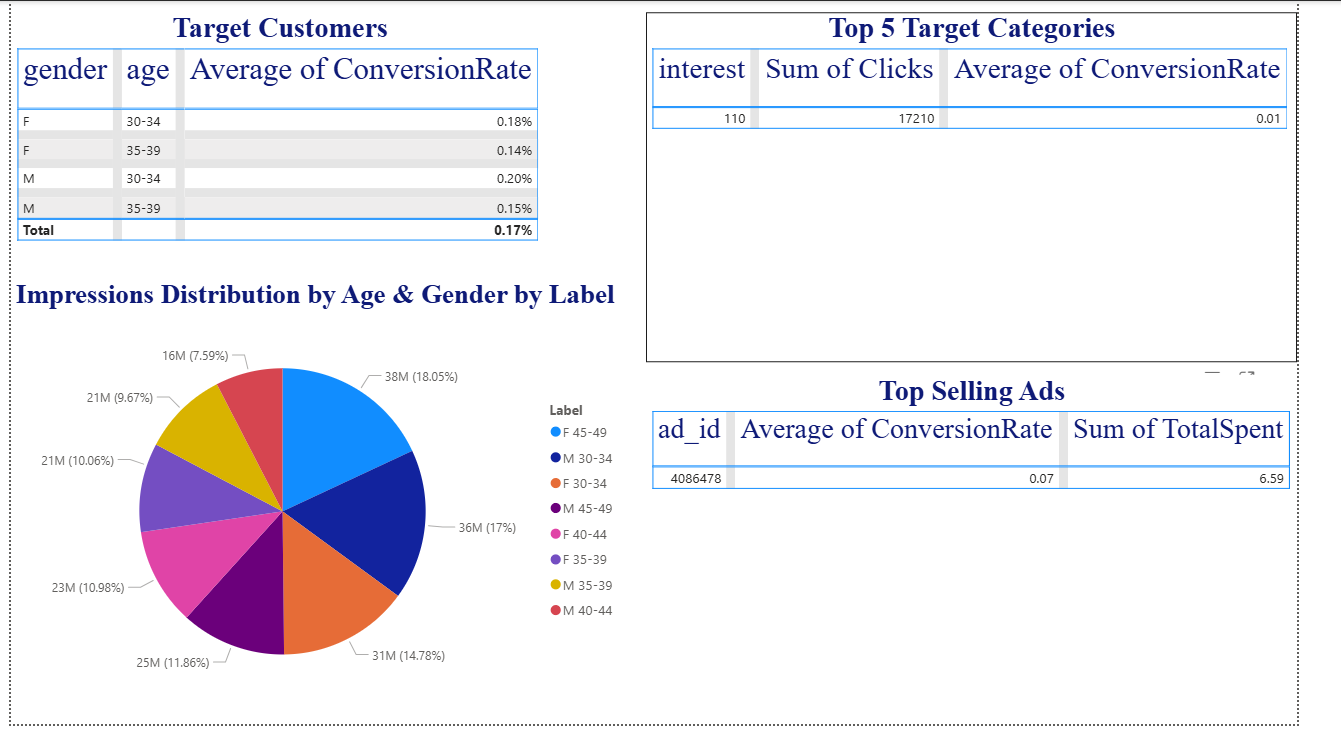

Layout of this report page (visuals, bound fields, positions):
{"tool":"powerbi","page":{"name":"Page 2","canvas":[1280,720],"ordinal":1},"visuals":[{"type":"tableEx","title":"Target Customers","fields":{"Values":["TopTargetCustomers.gender","TopTargetCustomers.age","Avg(TopTargetCustomers.AvgConversionRate)"]},"box":[0,11.4,535.7,264.3],"z":0},{"type":"tableEx","title":"Top 5 Target Categories","fields":{"Values":["Sum(Top5TargetCategories.interest)","Sum(Top5TargetCategories.Clicks)","Sum(Top5TargetCategories.AvgConversionRate)"]},"box":[631.4,11.4,648.6,348.6],"z":1000},{"type":"tableEx","title":"Top Selling Ads","fields":{"Values":["Sum(TopSellingAds.ad_id)","Avg(TopSellingAds.ConversionRate)","Sum(TopSellingAds.TotalSpent)"]},"box":[631.4,371.4,648.6,338.6],"z":2000},{"type":"pieChart","fields":{"Category":["ImpressionPieData.Label"],"Y":["Sum(ImpressionPieData.Impressions)"]},"box":[0,275.7,612.9,434.3],"z":3000}]}

Visuals, with their boxes on the page's 1280x720 design canvas (x1, y1, x2, y2). These are canvas units, not pixel positions in the 1341x729 screenshot, which may show the page scaled, cropped or inside an application window:
"Target Customers" tableEx: locate(0, 11, 536, 276)
"Top 5 Target Categories" tableEx: locate(631, 11, 1280, 360)
"Top Selling Ads" tableEx: locate(631, 371, 1280, 710)
pieChart - ImpressionPieData.Label x Sum(ImpressionPieData.Impressions): locate(0, 276, 613, 710)
